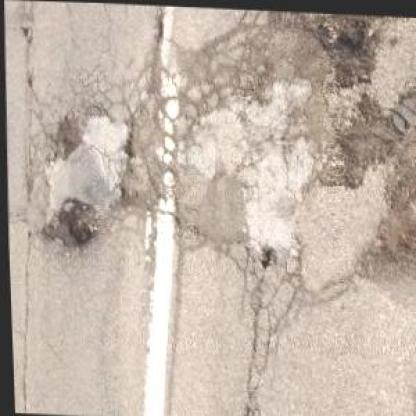pothole: (330, 100, 404, 188), (310, 12, 376, 89), (42, 193, 100, 247), (49, 114, 86, 156), (252, 243, 276, 266)
